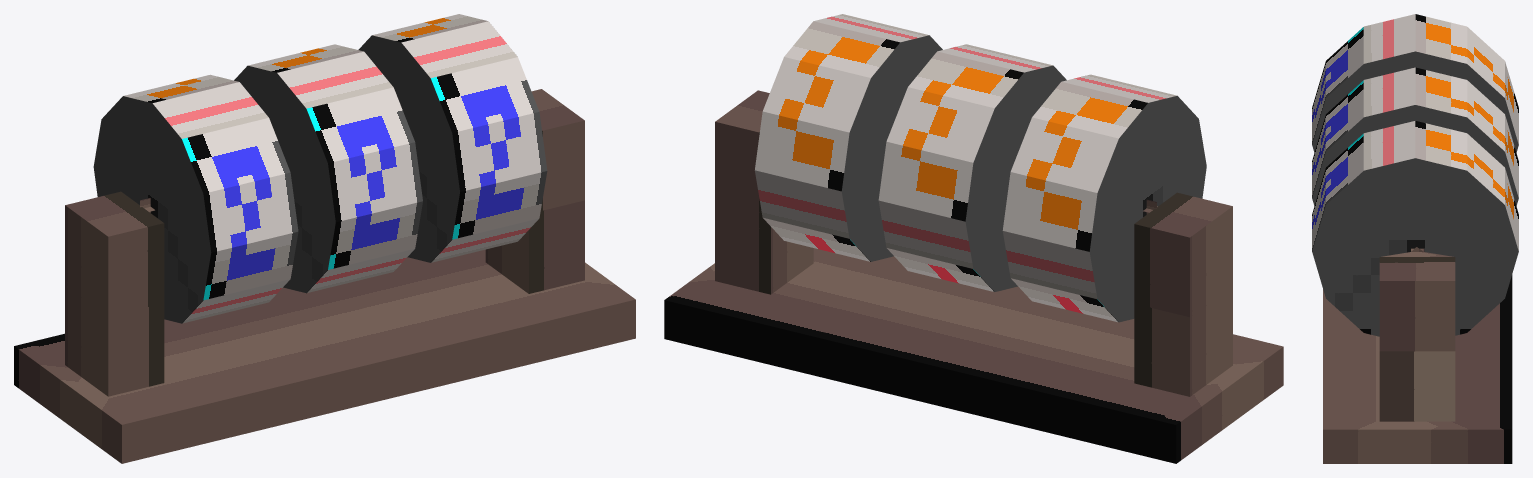
File: triplesgame_818x0.gltf
The picture shows the model from 3 angles, left to right: view 1: azimuth 30°, elevation 25°; view 2: azimuth 150°, elevation 25°; view 3: azimuth 270°, elevation 25°; orthographic projection. The views are drawn at different scales.
Parts seen in each view (by area): view 1: TriplesGame818x0; view 2: TriplesGame818x0; view 3: TriplesGame818x0.
Boxes of the visible parts, x1=… form: TriplesGame818x0: x1=14, y1=14, x2=635, y2=463; TriplesGame818x0: x1=664, y1=14, x2=1283, y2=463; TriplesGame818x0: x1=1312, y1=14, x2=1518, y2=463.
Bounding box in the file's own units: 2.75 × 1.55 × 1.09.
1 material, 1 textured.
